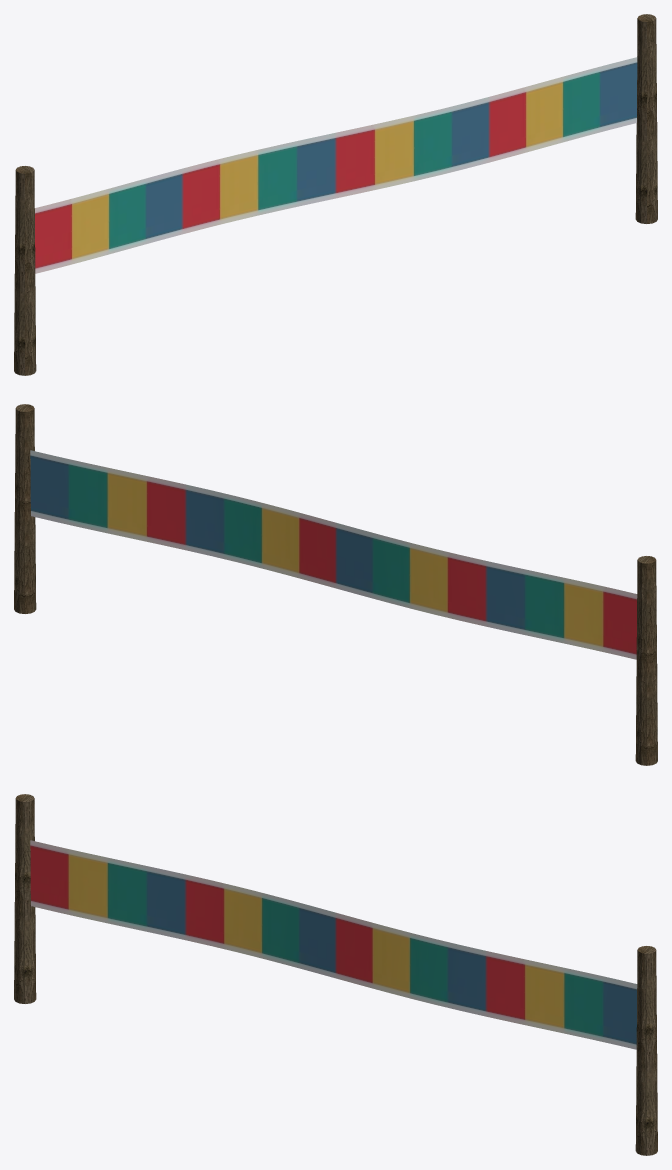
File: banner_overhead.glb
3 views of the same model, one above another, from view 1: azimuth 30°, elevation 25°; view 2: azimuth 150°, elevation 25°; view 3: azimuth 330°, elevation 25° (orthographic).
Parts seen in each view (by area): view 1: banner, post; view 2: banner, post; view 3: banner, post.
Part boxes in pixels (x1=…): banner: x1=35, y1=57, x2=637, y2=273; post: x1=14, y1=14, x2=657, y2=375; banner: x1=30, y1=450, x2=637, y2=659; post: x1=14, y1=404, x2=657, y2=765; banner: x1=30, y1=840, x2=637, y2=1049; post: x1=14, y1=794, x2=657, y2=1155.
Size of the model in its own units: 8.66 by 2.6 by 0.2601.
2 materials, 2 textured.
